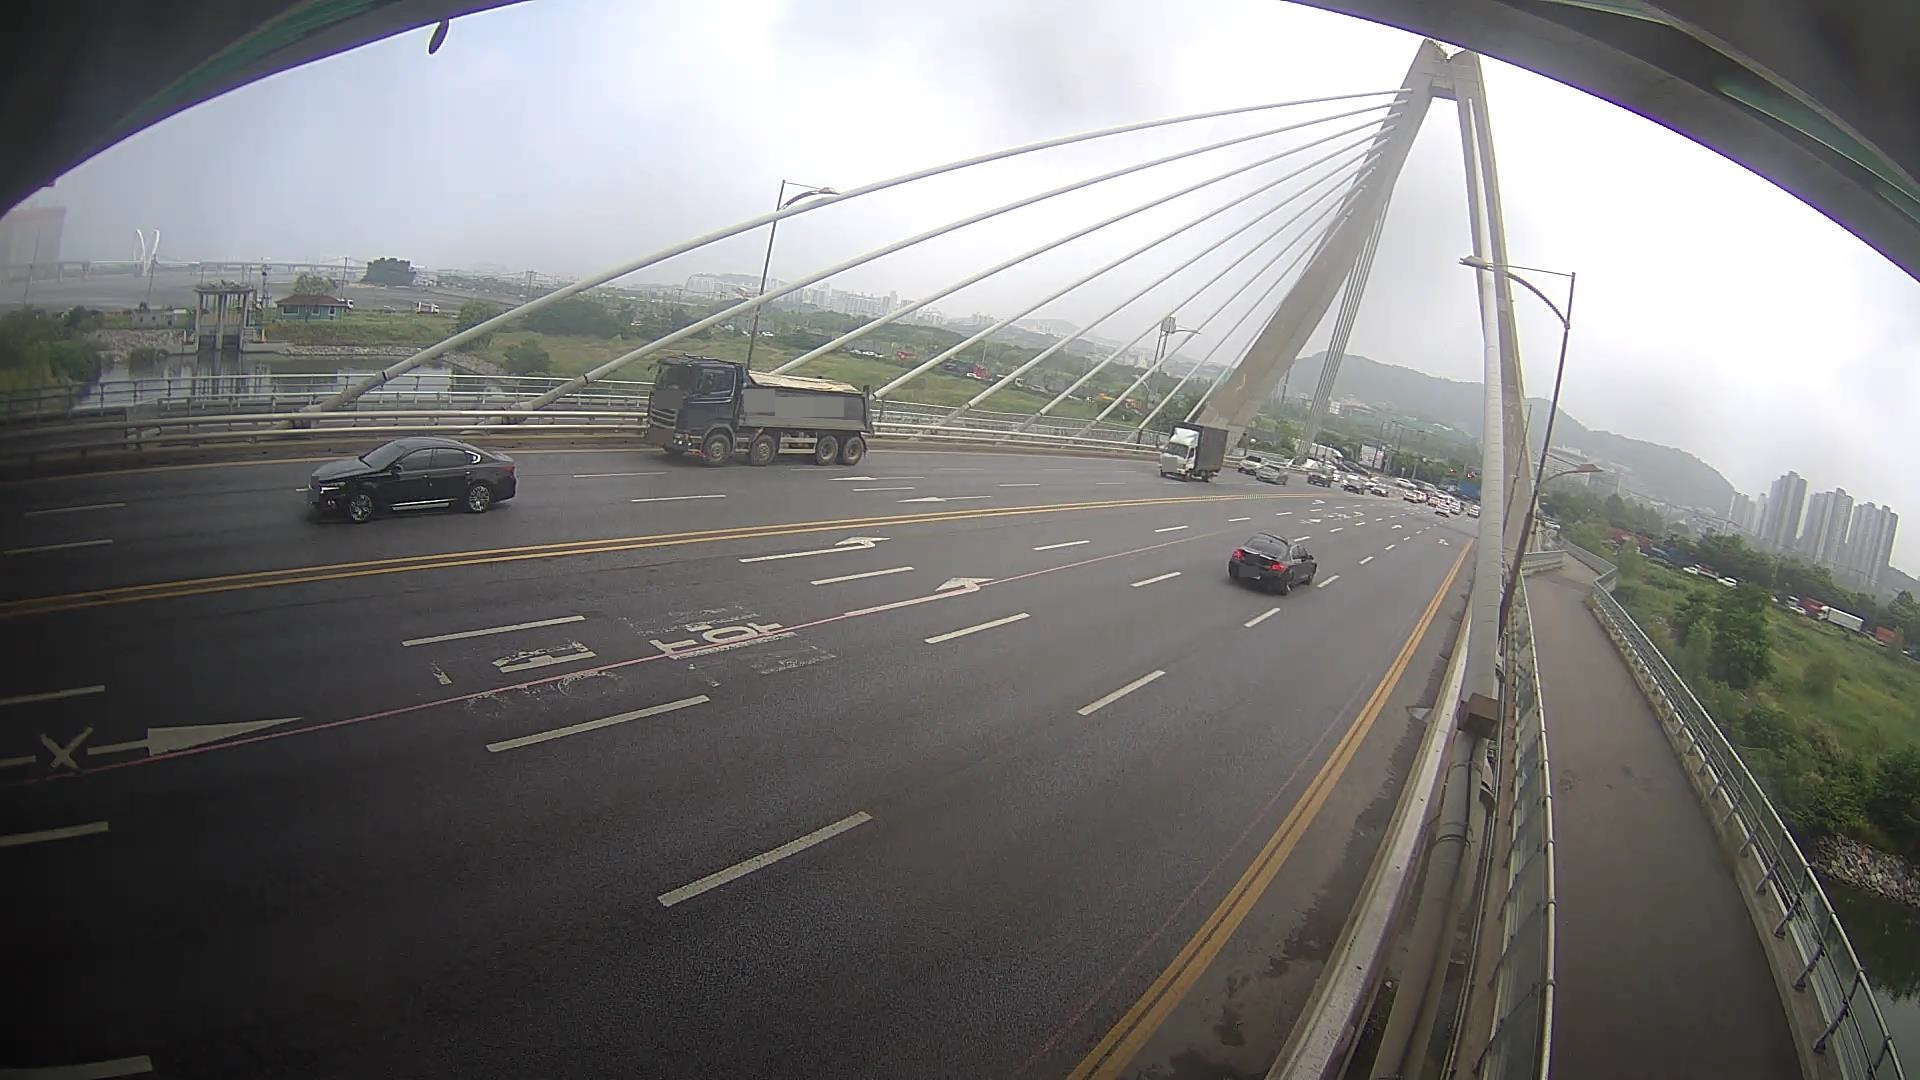정상차량: (647, 352, 874, 467)
